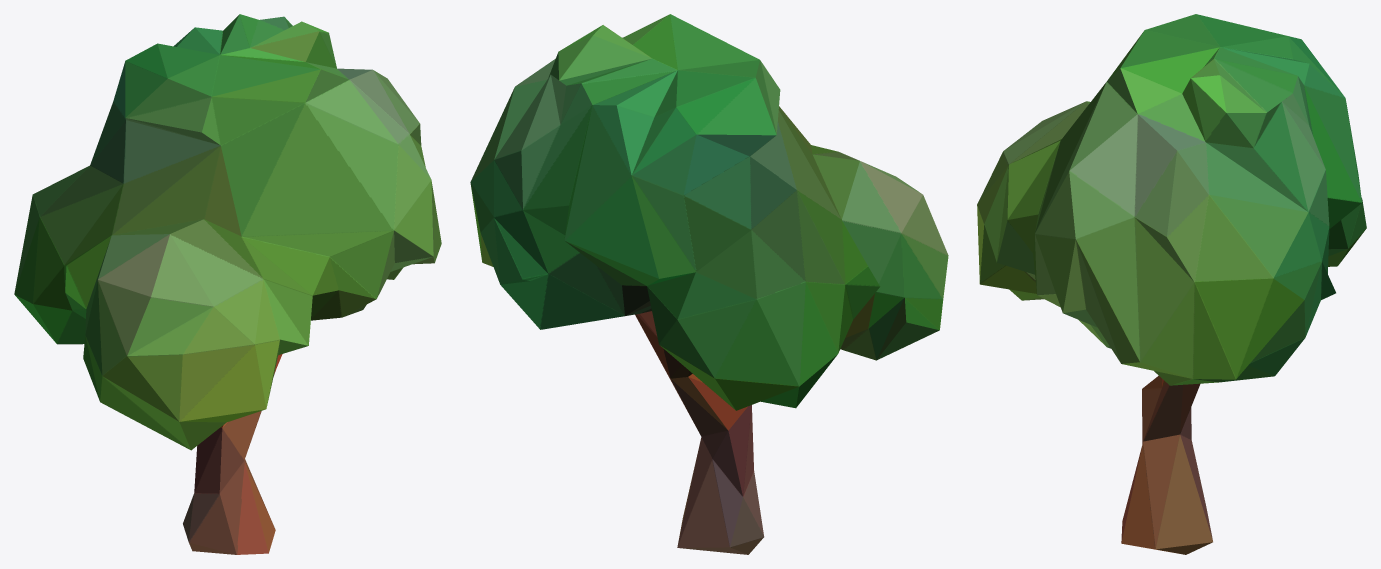
File: Tree3.fbx
The picture shows the model from 3 angles, left to right: view 1: azimuth 30°, elevation 25°; view 2: azimuth 150°, elevation 25°; view 3: azimuth 270°, elevation 25°; orthographic projection. The views are drawn at different scales.
Visible parts, largest first — view 1: Mesh_0; view 2: Mesh_0; view 3: Mesh_0.
Boxes of the visible parts, x1,y1,x2,y2 form: Mesh_0: (14,14,441,554); Mesh_0: (470,14,948,554); Mesh_0: (977,14,1366,554).
Size of the model in its own units: 142 by 176 by 120.
1 material, 1 textured.
